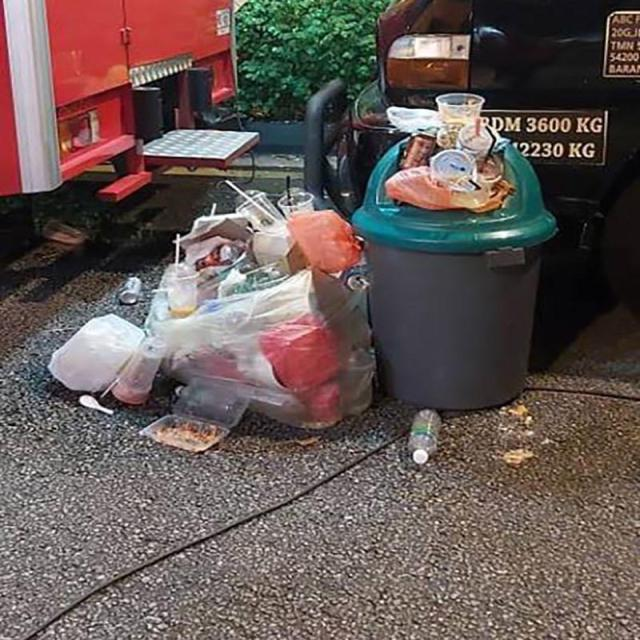garbage: (47, 179, 439, 465)
overflow: (352, 93, 555, 410)
